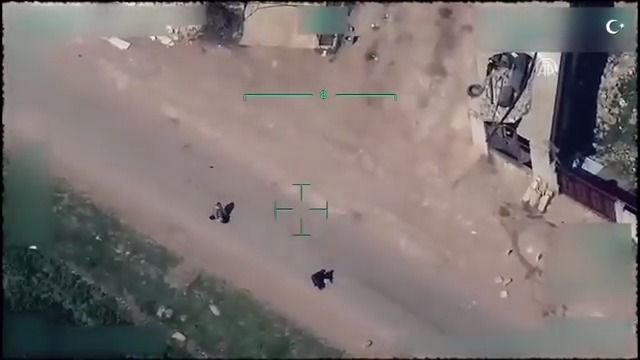insan: (205, 199, 234, 225)
